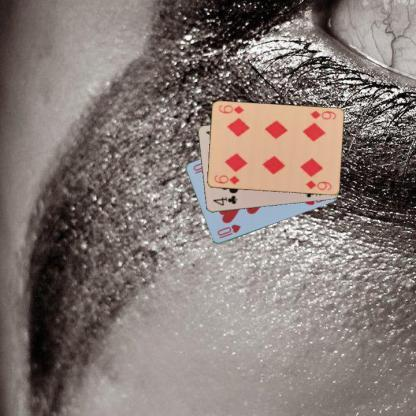10h: (214, 222, 242, 240)
4c: (210, 193, 239, 207)
6d: (307, 108, 337, 121), (211, 173, 240, 185)
